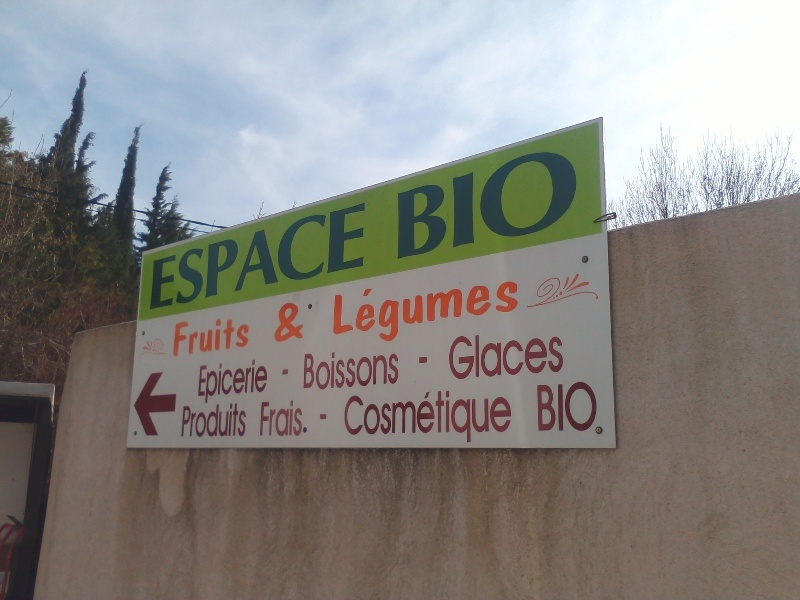text: (401, 138, 416, 261), (417, 138, 432, 261), (433, 138, 448, 261), (449, 138, 464, 261), (465, 138, 480, 261), (481, 138, 496, 261), (497, 138, 512, 261), (513, 138, 528, 261), (529, 138, 544, 261), (545, 138, 560, 261), (561, 138, 576, 261), (161, 200, 176, 311), (177, 200, 192, 311), (193, 200, 208, 311), (209, 200, 224, 311), (225, 200, 240, 311), (241, 200, 256, 311), (257, 200, 272, 311), (273, 200, 288, 311), (289, 200, 304, 311), (305, 200, 320, 311), (321, 200, 336, 311), (337, 200, 352, 311), (353, 200, 368, 311), (337, 262, 352, 353), (353, 262, 368, 353), (369, 262, 384, 353), (385, 262, 400, 353), (401, 262, 416, 353), (417, 262, 432, 353), (433, 262, 448, 353), (449, 262, 464, 353), (465, 262, 480, 353), (481, 262, 496, 353), (497, 262, 512, 353), (151, 200, 160, 311), (577, 138, 585, 261), (353, 386, 368, 444), (369, 386, 384, 444), (385, 386, 400, 444), (401, 386, 416, 444), (417, 386, 432, 444), (433, 386, 448, 444), (449, 386, 464, 444), (465, 386, 480, 444), (481, 386, 496, 444), (497, 386, 512, 444), (545, 378, 560, 433), (561, 378, 576, 433), (577, 378, 592, 433), (513, 262, 522, 353), (449, 328, 464, 382), (465, 328, 480, 382), (481, 328, 496, 382), (497, 328, 512, 382), (513, 328, 528, 382), (529, 328, 544, 382), (545, 328, 560, 382), (209, 359, 224, 405), (225, 359, 240, 405), (241, 359, 256, 405), (385, 348, 401, 391), (177, 313, 192, 358), (193, 313, 208, 358), (209, 313, 224, 358), (225, 313, 240, 358), (289, 301, 304, 344), (305, 348, 320, 391), (321, 348, 336, 391), (337, 348, 352, 391), (353, 348, 368, 391), (369, 348, 384, 391), (257, 359, 270, 405), (273, 400, 288, 439), (289, 400, 304, 439), (193, 403, 208, 440), (209, 403, 224, 440), (225, 403, 240, 440), (535, 378, 544, 433), (396, 138, 400, 261), (277, 301, 288, 344), (260, 400, 272, 439), (344, 386, 352, 444), (241, 313, 251, 358), (182, 403, 192, 440), (593, 378, 599, 433), (201, 359, 208, 405), (241, 403, 249, 440), (333, 262, 336, 353), (561, 328, 565, 382), (305, 400, 310, 439), (305, 301, 308, 344), (369, 200, 370, 311), (174, 313, 176, 358), (513, 386, 514, 444)
